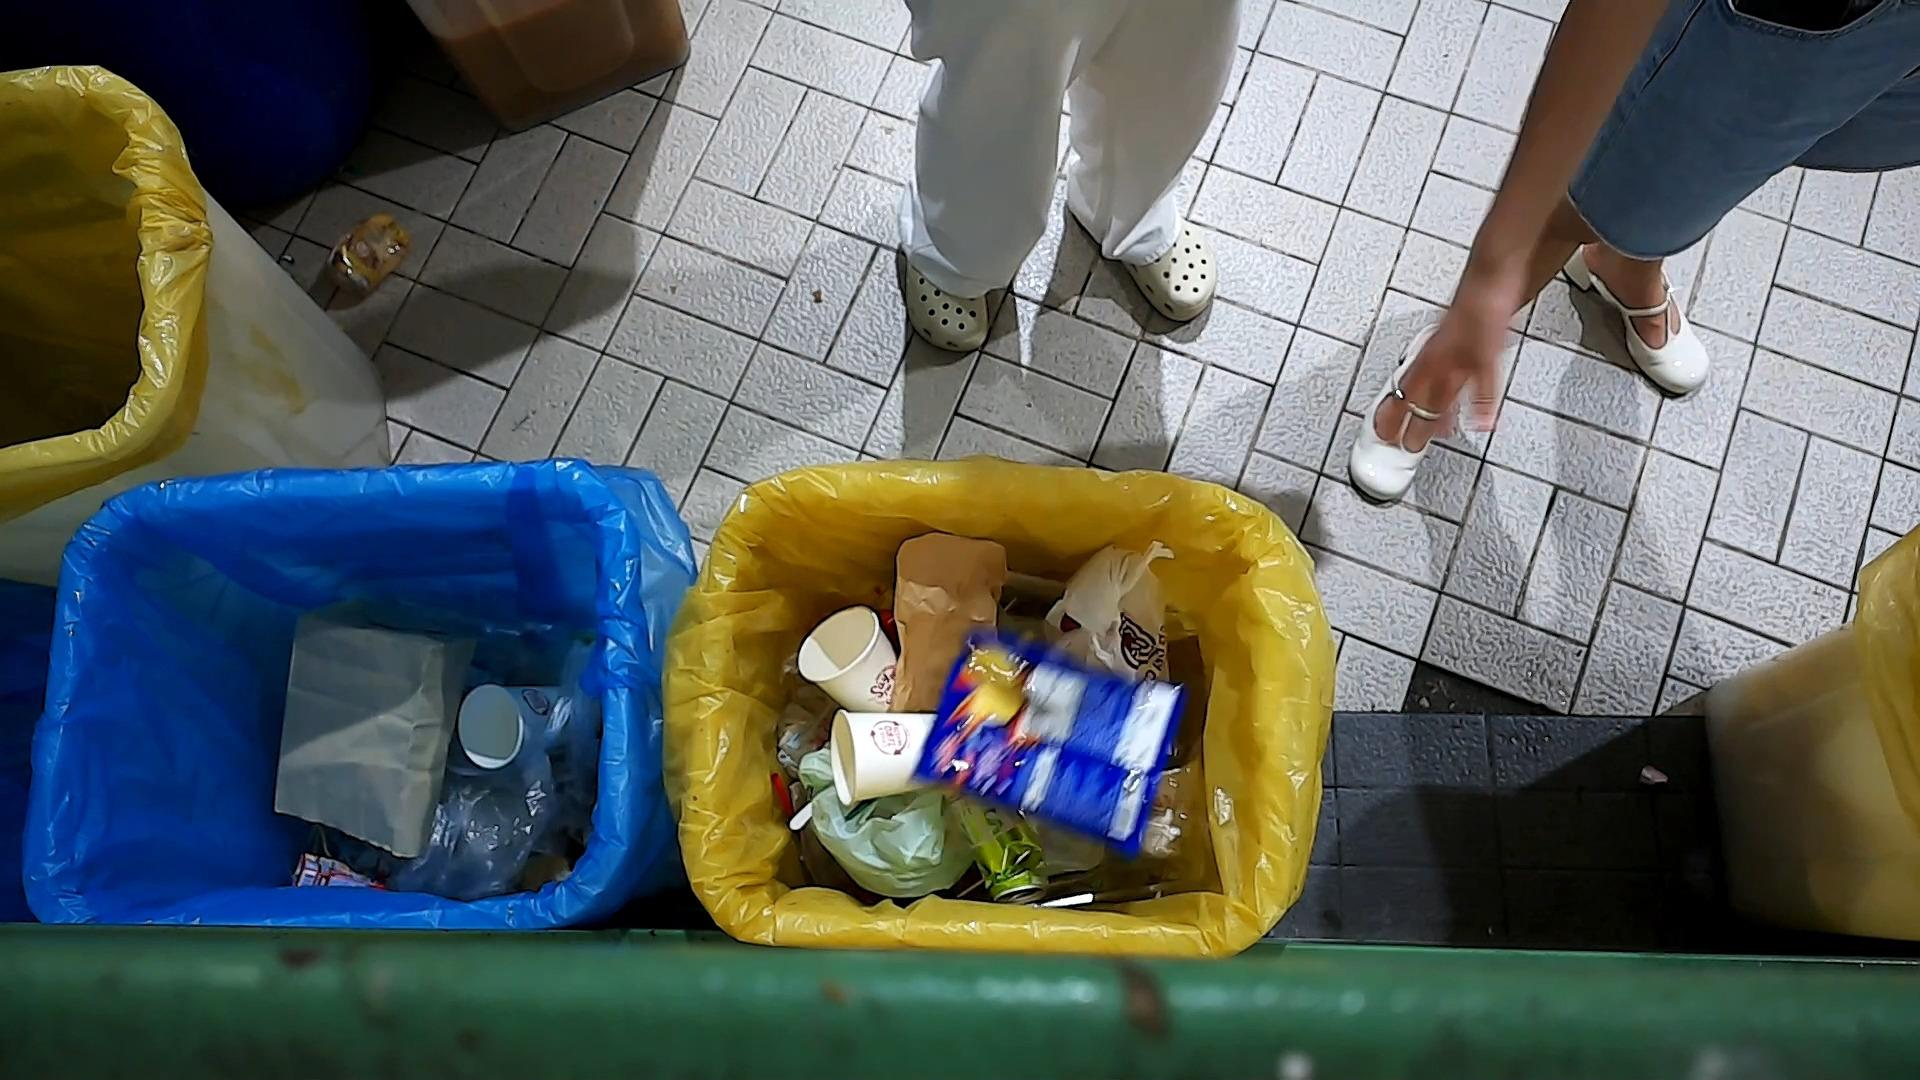can: (942, 787, 1052, 909)
filled plastic bag: (795, 731, 980, 902), (1040, 538, 1176, 686)
milk carton: (289, 843, 394, 891)
paper bag: (274, 585, 492, 858), (889, 530, 1011, 716)
plastic bag: (398, 735, 570, 905)
snack packaging: (907, 618, 1193, 858)
zero waste cup: (452, 678, 576, 775), (795, 600, 899, 713), (828, 705, 942, 810)
